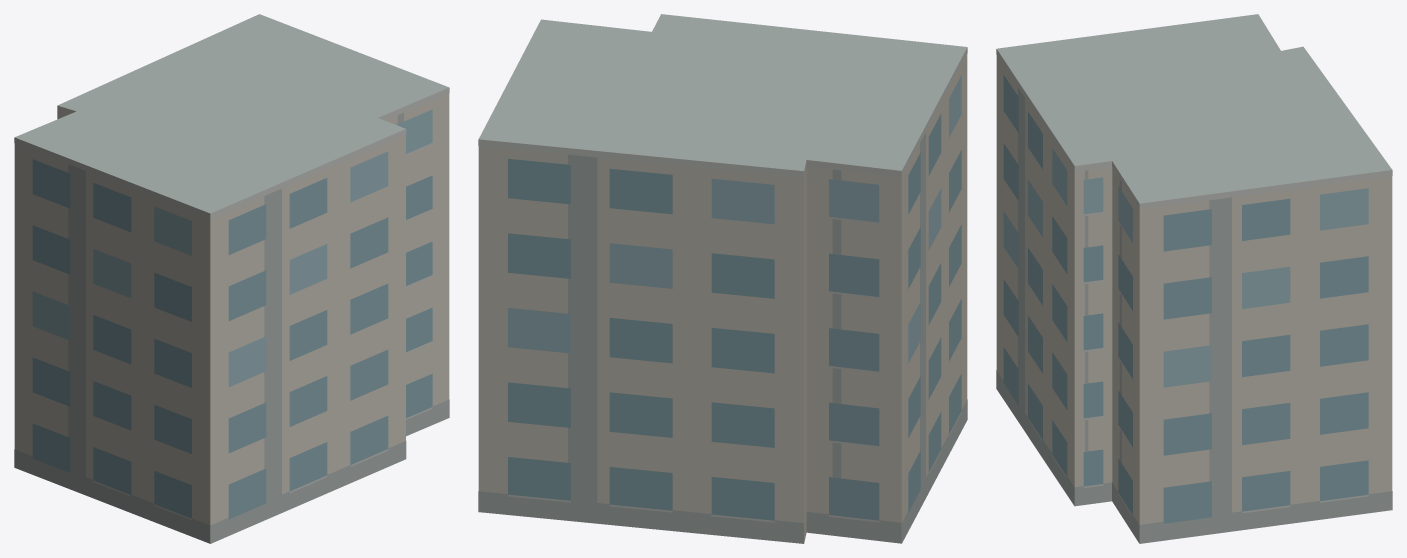
Rendered from survey-upis-32852245.glb.
3 renders of one model, left to right at view 1: azimuth 30°, elevation 25°; view 2: azimuth 150°, elevation 25°; view 3: azimuth 270°, elevation 25°, orthographic. The views are drawn at different scales.
Visible parts, largest first — view 1: survey-upis-32852245.tmp; view 2: survey-upis-32852245.tmp; view 3: survey-upis-32852245.tmp.
Part boxes in pixels (x1,y1,x2,y2): survey-upis-32852245.tmp: (14,14,449,543); survey-upis-32852245.tmp: (478,14,967,543); survey-upis-32852245.tmp: (996,14,1392,543).
Size of the model in its own units: 16.57 by 13.85 by 14.62.
